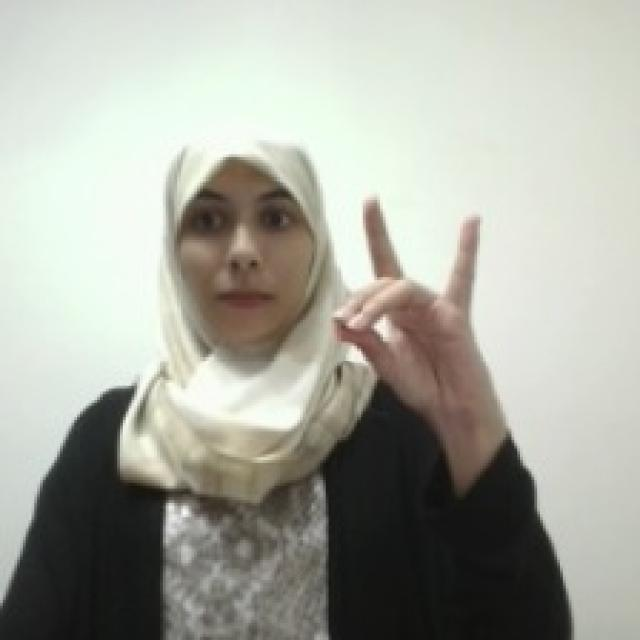Dog: (330, 186, 490, 419)
